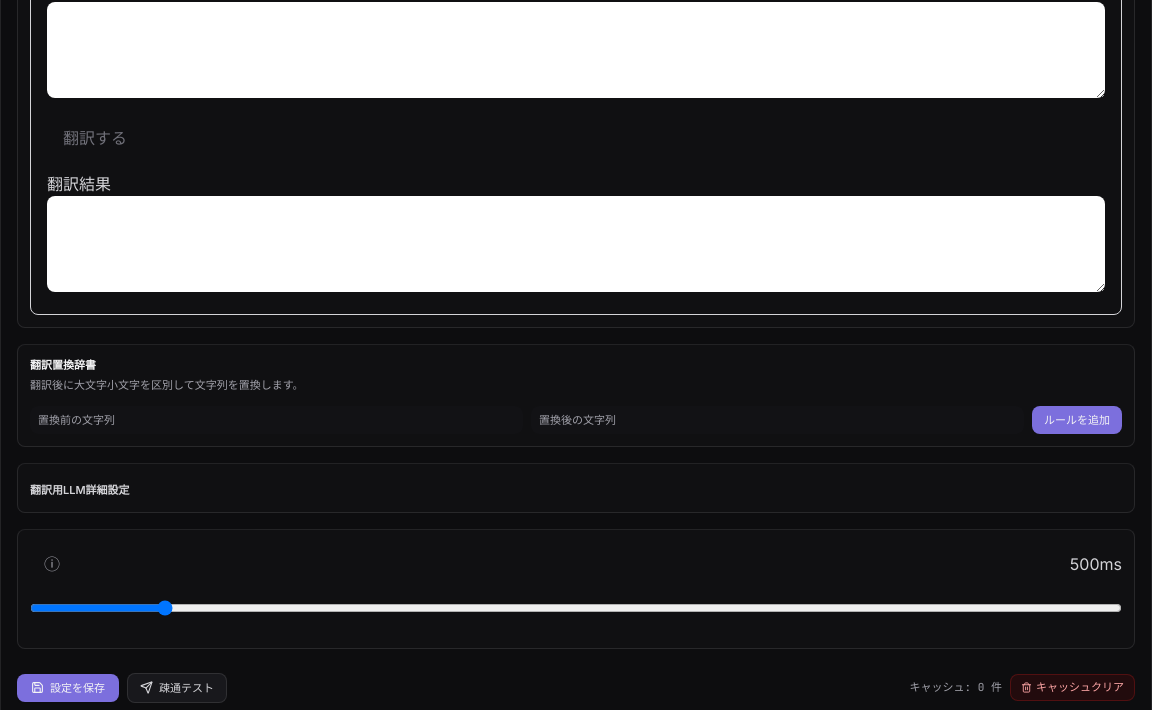
Scenario: Settings autosave integration › [REQ-381/AC-7] retains a failed translation debounce draft until explicit retry
(page scrolled)
Set the slider with id "translation-debounce" to "800": (354,608) [30,586,1122,630]
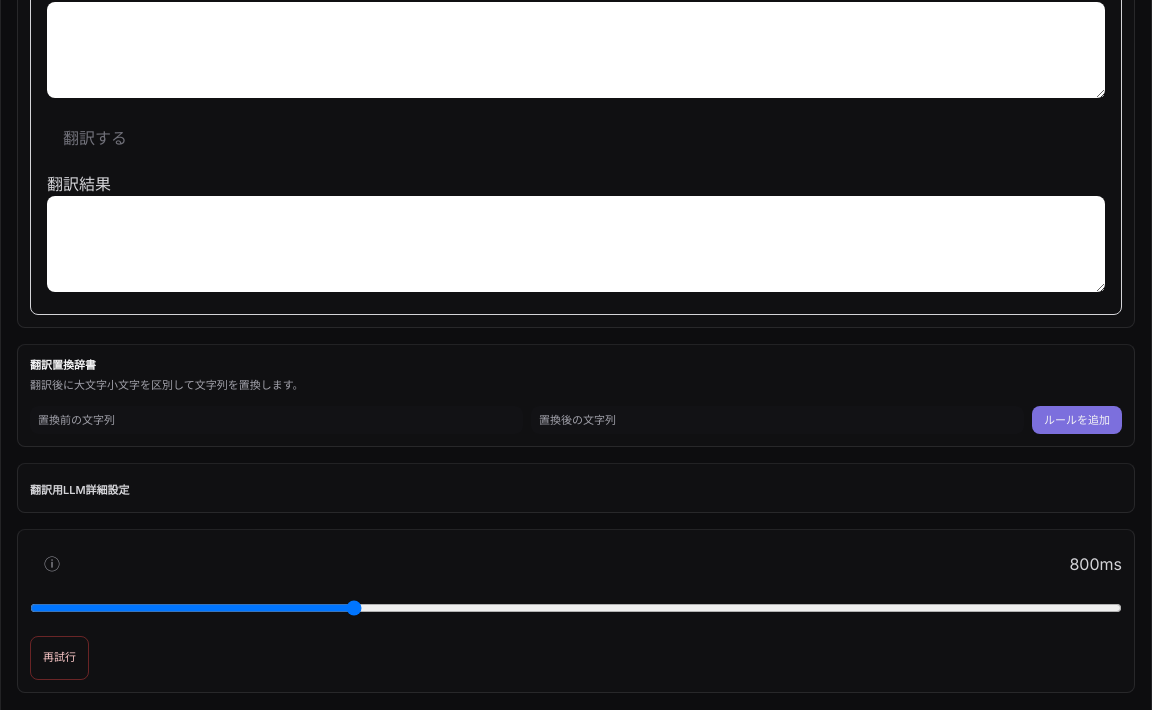
Click the button "再試行": (60,658) [30,636,89,680]
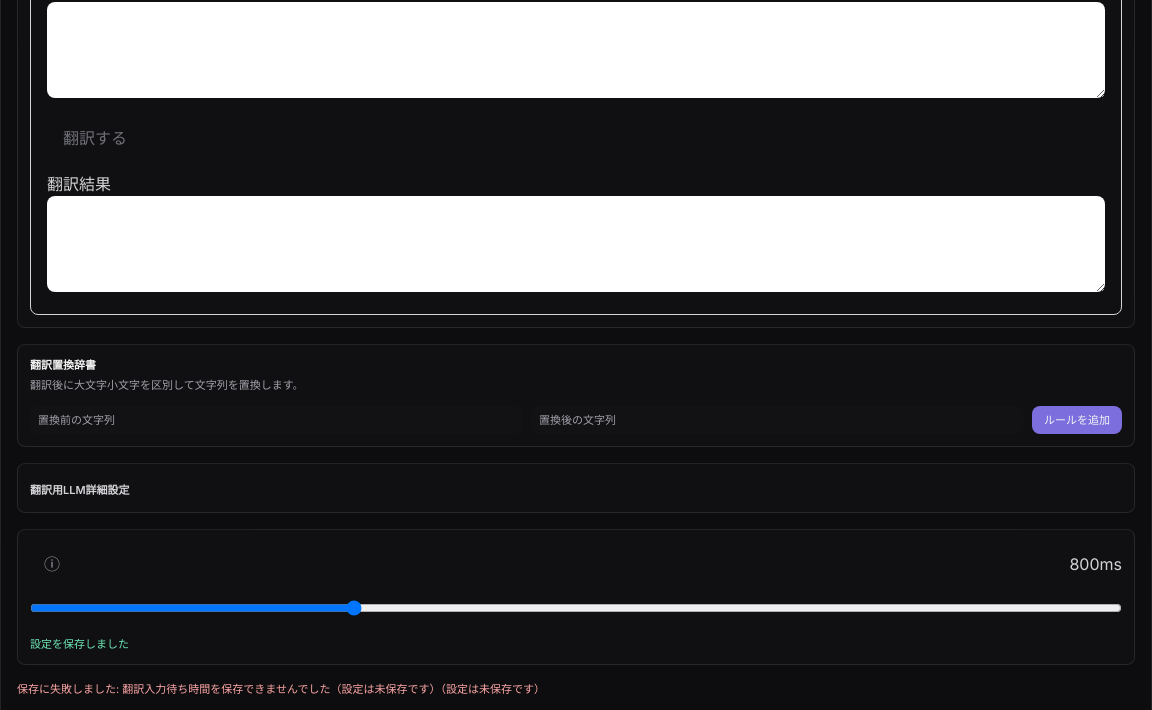
Expected: the text "設定を保存しました" is shown, [30,636,129,650]
